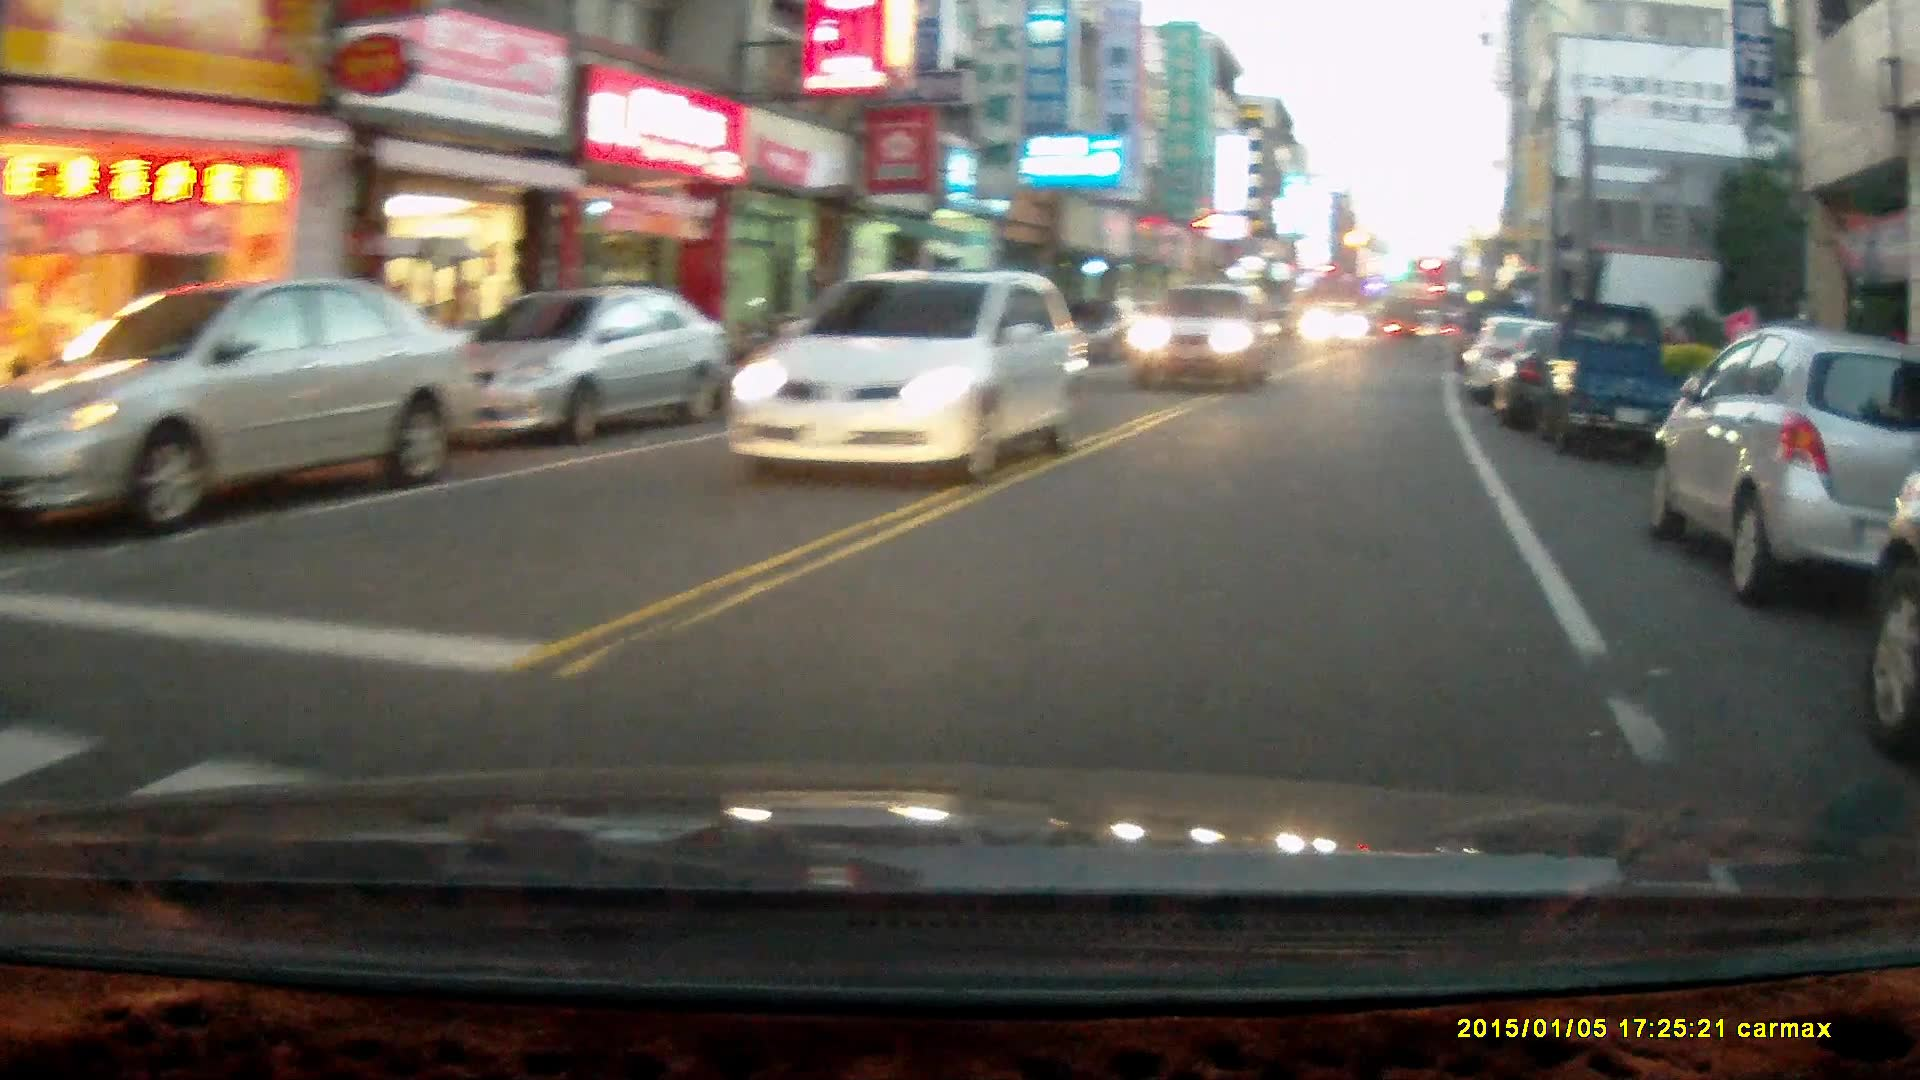vehicle: (9, 284, 498, 535), (1636, 328, 1920, 615), (719, 280, 1087, 495), (425, 287, 727, 448), (1520, 305, 1698, 464), (1127, 287, 1286, 396), (1456, 313, 1598, 411), (1299, 305, 1373, 355)
